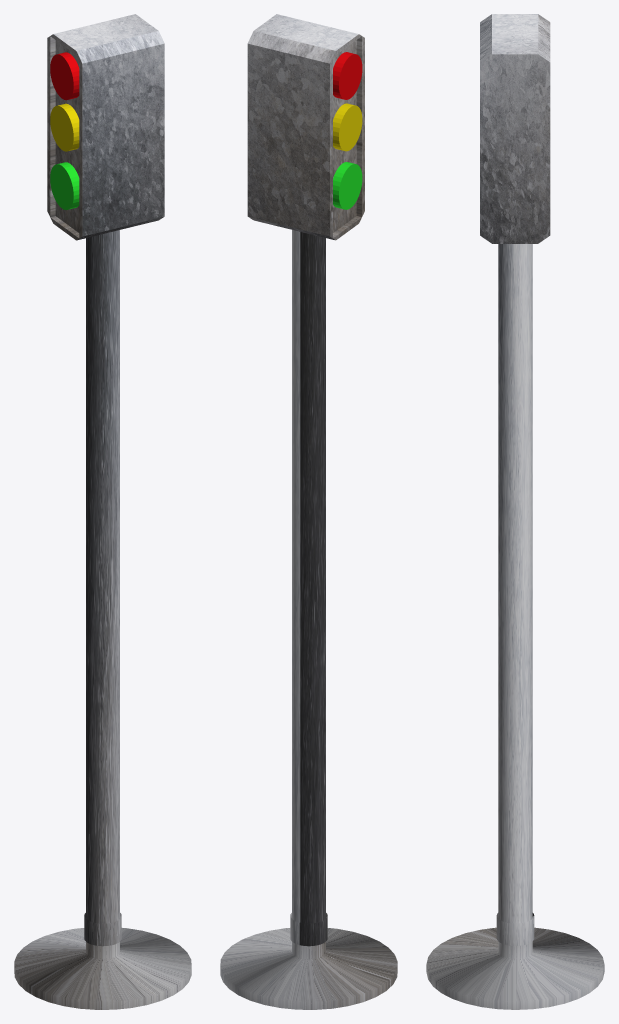
Rendered from Trafficlights2.fbx.
3 renders of one model, left to right at view 1: azimuth 30°, elevation 25°; view 2: azimuth 150°, elevation 25°; view 3: azimuth 270°, elevation 25°, orthographic.
Parts seen in each view (by area): view 1: Trafficlights2; view 2: Trafficlights2; view 3: Trafficlights2.
Part boxes in pixels (x1=…): Trafficlights2: x1=14, y1=14, x2=191, y2=1009; Trafficlights2: x1=220, y1=14, x2=397, y2=1009; Trafficlights2: x1=426, y1=14, x2=604, y2=1009.
Bounding box in the file's own units: 107 × 623 × 107.
4 materials, 1 textured.
